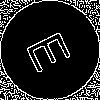E: (25, 25, 81, 75)
